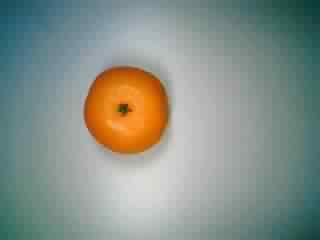orange: (76, 59, 177, 156)
